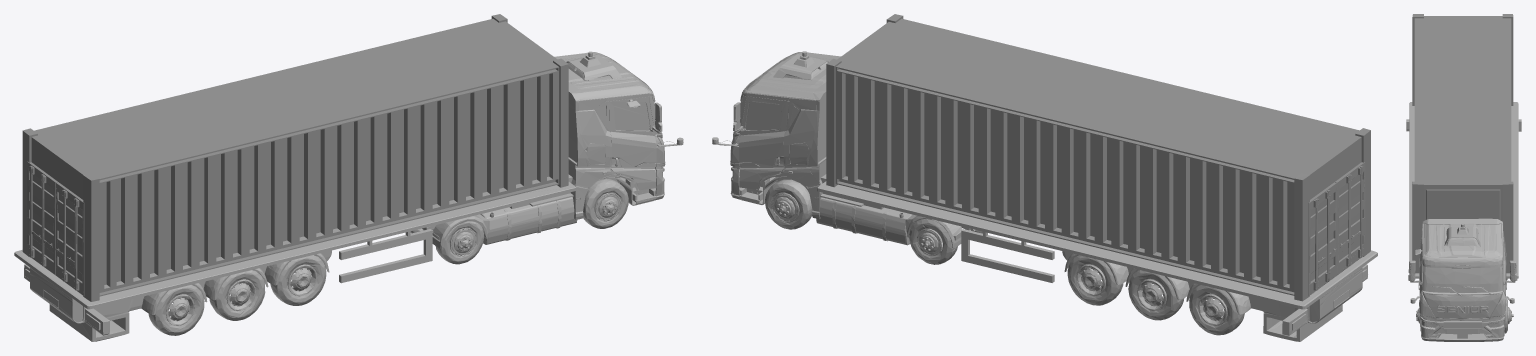
File: wtruck.glb
3 renders of one model, left to right at view 1: azimuth 30°, elevation 25°; view 2: azimuth 150°, elevation 25°; view 3: azimuth 270°, elevation 25°, orthographic. The views are drawn at different scales.
Parts seen in each view (by area): view 1: world; view 2: world; view 3: world.
Part boxes in pixels (x1=…): world: x1=14, y1=14, x2=683, y2=341; world: x1=712, y1=14, x2=1377, y2=341; world: x1=1406, y1=14, x2=1521, y2=341.
Size of the model in its own units: 8.73 by 2.52 by 2.
Materials: 1 (1 with a texture image).
